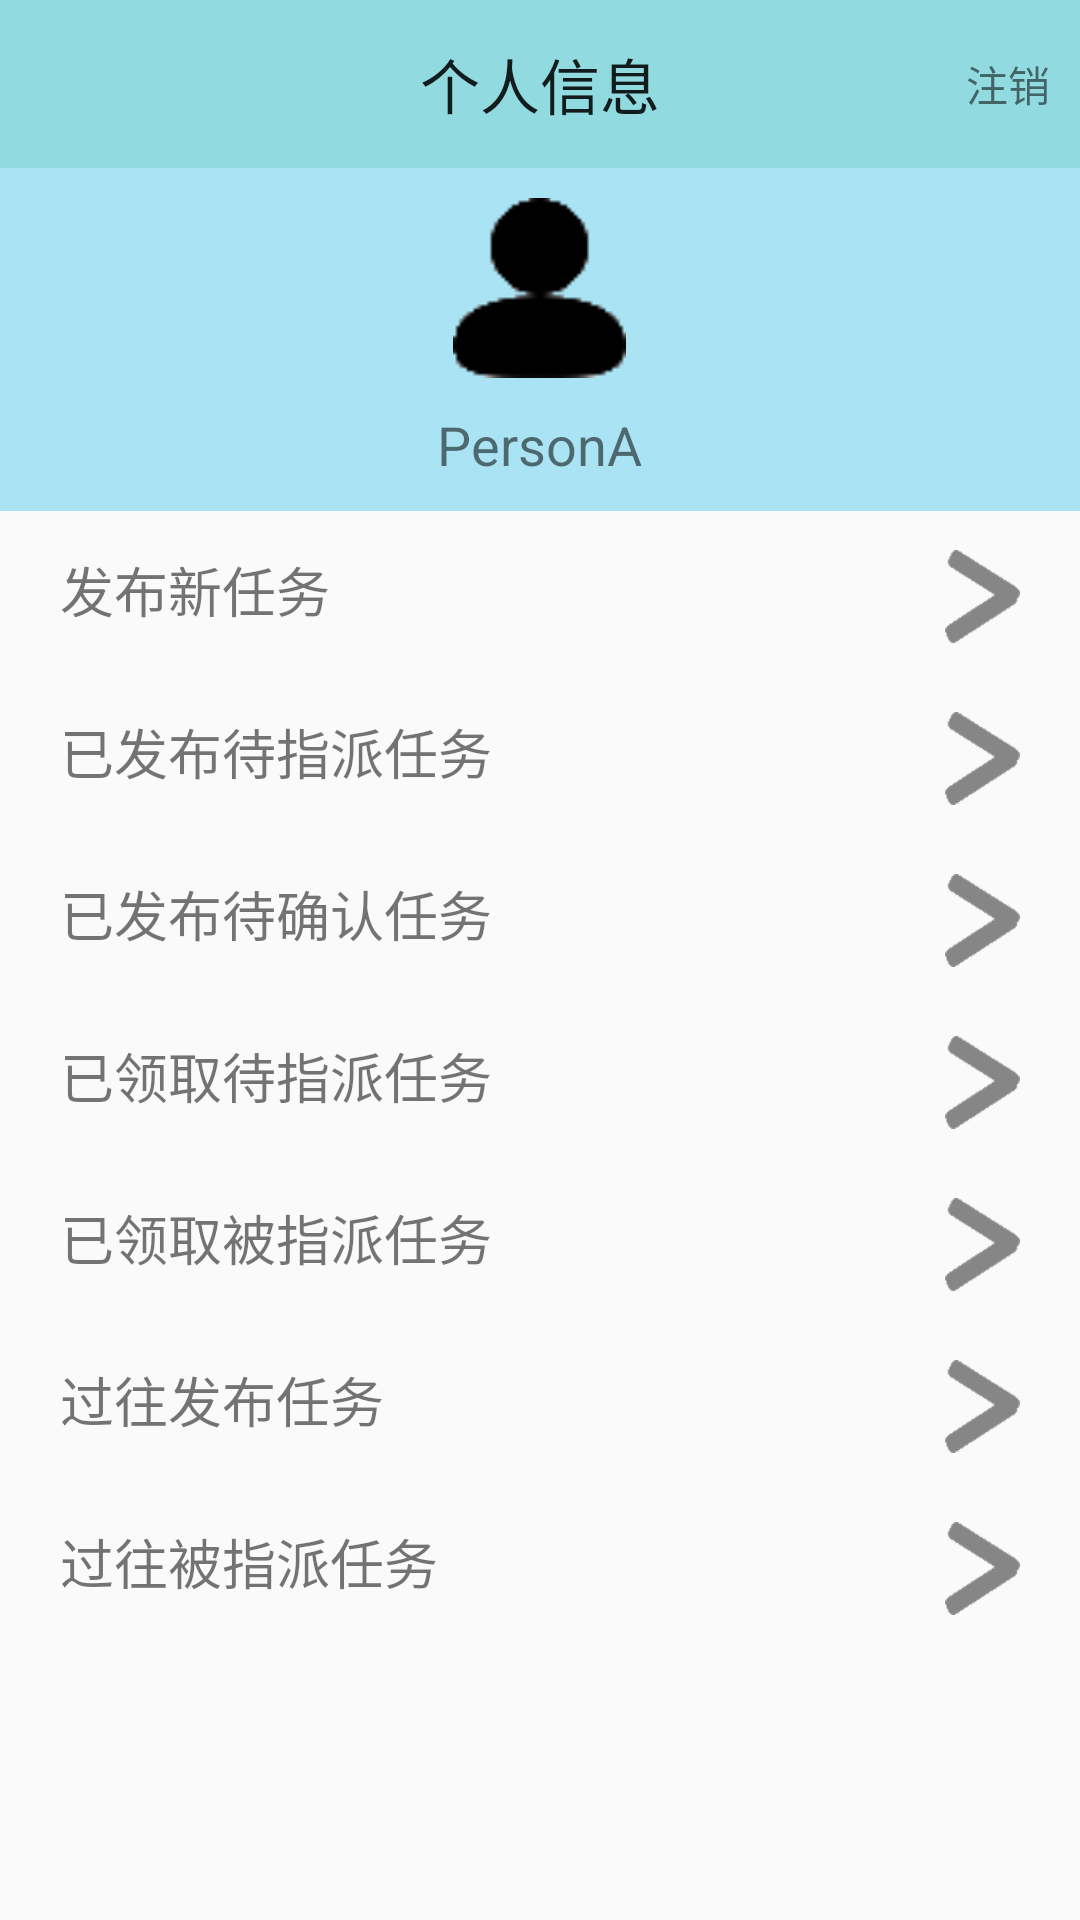

Icon bounding boxes for this 1080 × 1920 phone screenshot, format [x1, y1, x2, y2]:
user: [453, 198, 626, 378]
